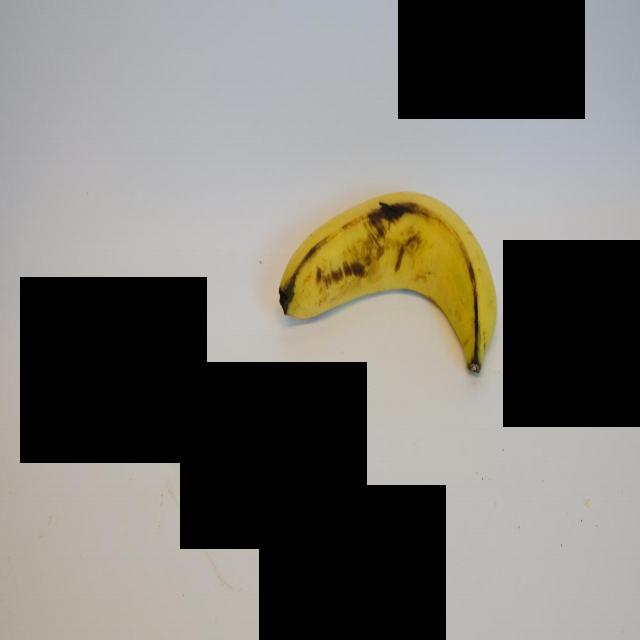banana: (277, 178, 497, 388)
